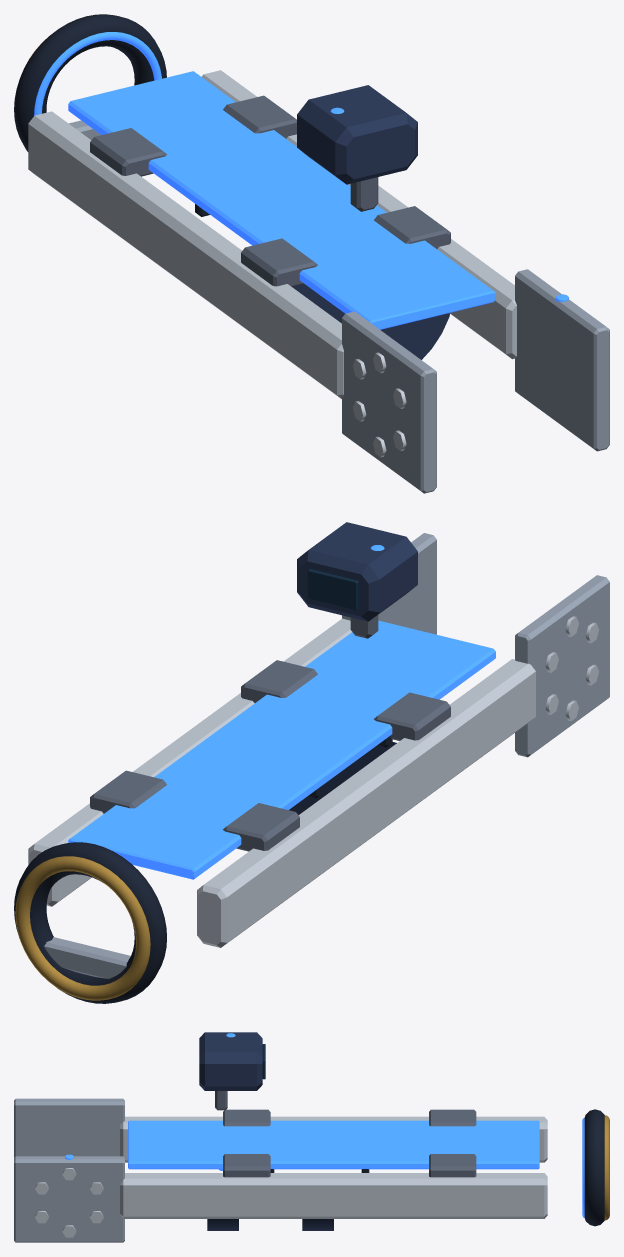
File: tower_lance_damage_s7.glb
3 renders of one model, top to bottom at view 1: azimuth 30°, elevation 25°; view 2: azimuth 150°, elevation 25°; view 3: azimuth 270°, elevation 25°, orthographic. The views are drawn at different scales.
Parts seen in each view (by area): view 1: lance_accelerator_b, lance_heavy_rail_r, lance_breech_cheek_l, lance_breech_cheek_r, lance_sensor_pod, lance_coil4, lance_heavy_rail_l, lance_heavy_rail_brace_r, lance_heavy_rail_brace2_r, lance_heavy_rail_brace_l, lance_heavy_rail_brace2_l, lance_coil_cap0 (+3 smaller); view 2: lance_accelerator_b, lance_heavy_rail_r, lance_breech_cheek_r, lance_sensor_pod, lance_coil4, lance_coil_winding4, lance_heavy_rail_l, lance_breech_cheek_l, lance_heavy_rail_brace2_r, lance_heavy_rail_brace_r, lance_insulator4, lance_heavy_rail_brace2_l (+4 smaller); view 3: lance_heavy_rail_l, lance_accelerator_b, lance_breech_cheek_l, lance_breech_cheek_r, lance_sensor_pod, lance_coil4, lance_heavy_rail_r, lance_heavy_rail_brace_l, lance_heavy_rail_brace2_l, lance_cheek_bolts_r, lance_heavy_rail_brace_r, lance_heavy_rail_brace2_r (+4 smaller).
Part boxes in pixels (x1,y1,x2,y2): lance_accelerator_b: [68, 71, 495, 329]; lance_heavy_rail_r: [28, 111, 343, 398]; lance_breech_cheek_l: [515, 269, 609, 451]; lance_breech_cheek_r: [342, 311, 436, 493]; lance_sensor_pod: [297, 85, 417, 184]; lance_coil4: [14, 14, 166, 151]; lance_heavy_rail_l: [201, 70, 516, 359]; lance_heavy_rail_brace_r: [241, 238, 317, 286]; lance_heavy_rail_brace2_r: [90, 128, 166, 176]; lance_heavy_rail_brace_l: [374, 206, 450, 248]; lance_heavy_rail_brace2_l: [223, 95, 296, 138]; lance_coil_cap0: [329, 311, 449, 359]; lance_accelerator_b: [68, 620, 495, 879]; lance_heavy_rail_r: [197, 659, 535, 947]; lance_breech_cheek_r: [515, 575, 609, 757]; lance_sensor_pod: [297, 522, 417, 621]; lance_coil4: [14, 842, 166, 1003]; lance_coil_winding4: [15, 856, 150, 1000]; lance_heavy_rail_l: [28, 618, 351, 906]; lance_breech_cheek_l: [342, 533, 436, 634]; lance_heavy_rail_brace2_r: [223, 803, 299, 851]; lance_heavy_rail_brace_r: [374, 692, 450, 740]; lance_insulator4: [44, 937, 130, 978]; lance_heavy_rail_brace2_l: [90, 770, 166, 813]; lance_heavy_rail_l: [120, 1173, 547, 1218]; lance_accelerator_b: [128, 1120, 539, 1169]; lance_breech_cheek_l: [14, 1156, 124, 1242]; lance_breech_cheek_r: [14, 1098, 124, 1157]; lance_sensor_pod: [199, 1032, 262, 1090]; lance_coil4: [584, 1109, 604, 1226]; lance_heavy_rail_r: [120, 1116, 547, 1162]; lance_heavy_rail_brace_l: [223, 1154, 270, 1177]; lance_heavy_rail_brace2_l: [429, 1154, 476, 1177]; lance_cheek_bolts_r: [35, 1168, 103, 1237]; lance_heavy_rail_brace_r: [223, 1109, 270, 1126]; lance_heavy_rail_brace2_r: [429, 1109, 476, 1126].
Bounding box in the file's own units: 0.9896 × 1.28 × 3.76.
